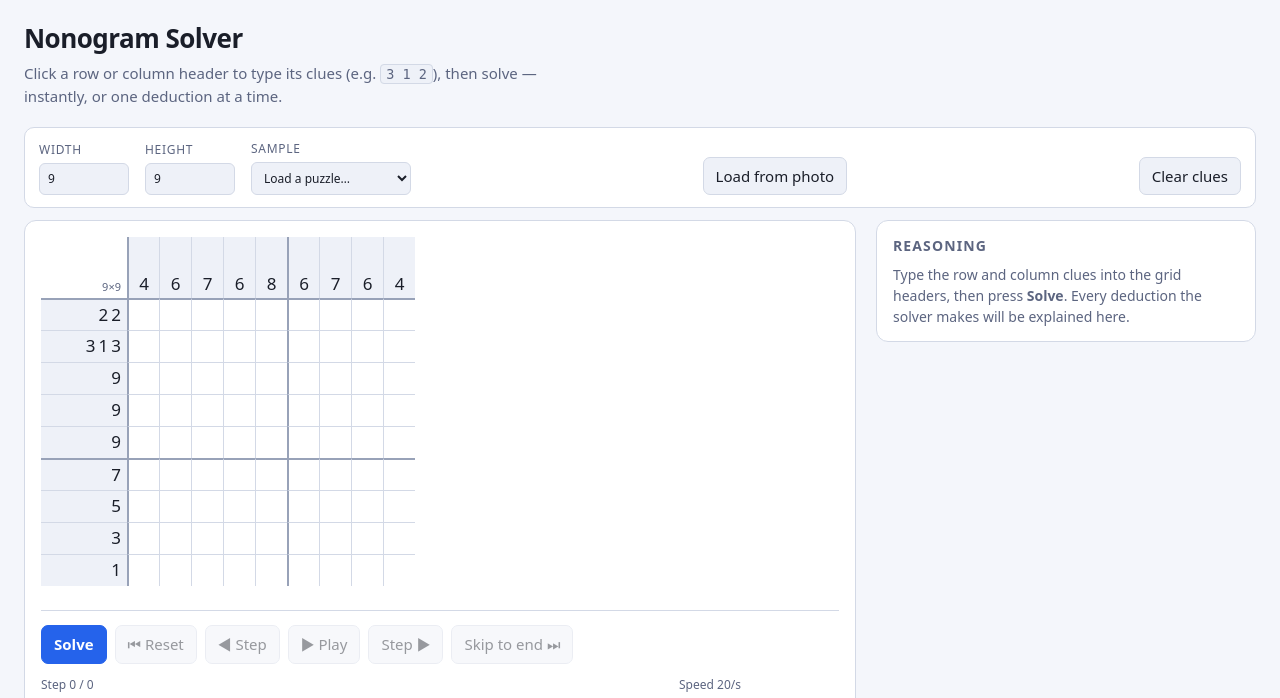
Test: the page › explains each deduction and lets you jump to one
Click the button "Solve". click: (74, 644)
box: left=41, top=625, right=106, bottom=664
(page scrolled)
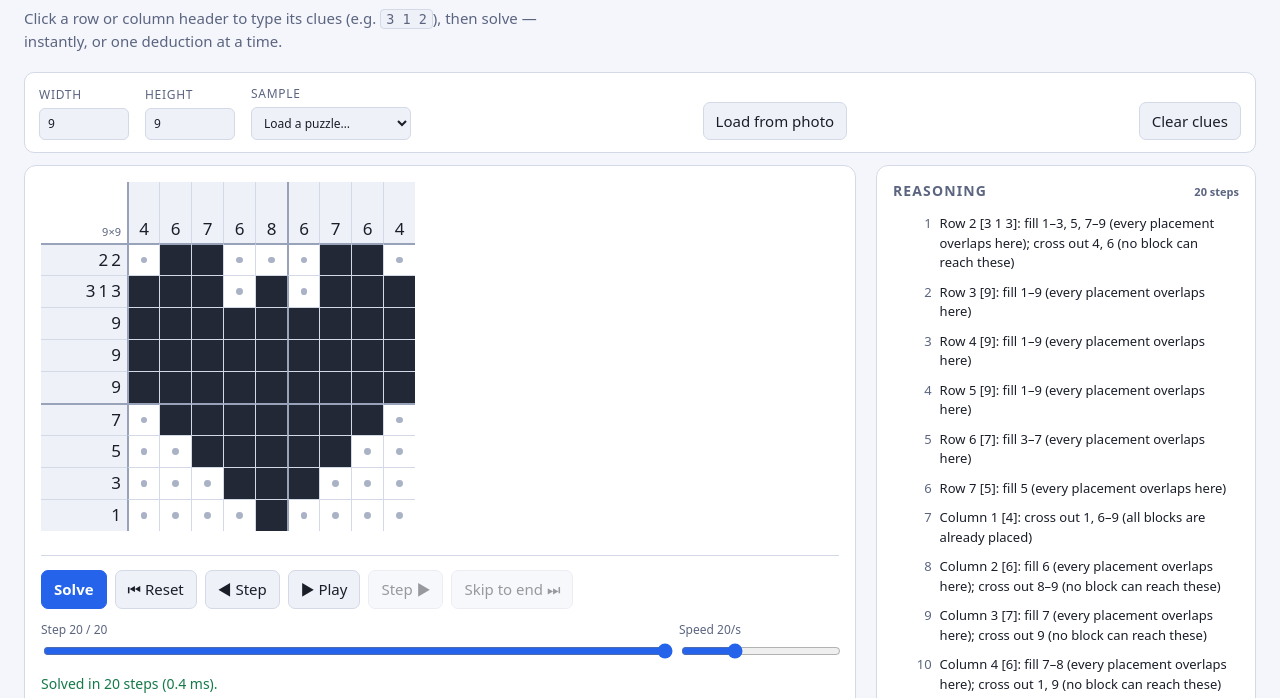
Expected: the text "Solved in 20 steps (0.4 ms)." is shown, left=41, top=674, right=218, bottom=692
Click the list item "3 Row 4 [9]: fill 1–9 (every placement overlaps here)". click: (1065, 350)
box: left=924, top=332, right=1205, bottom=369
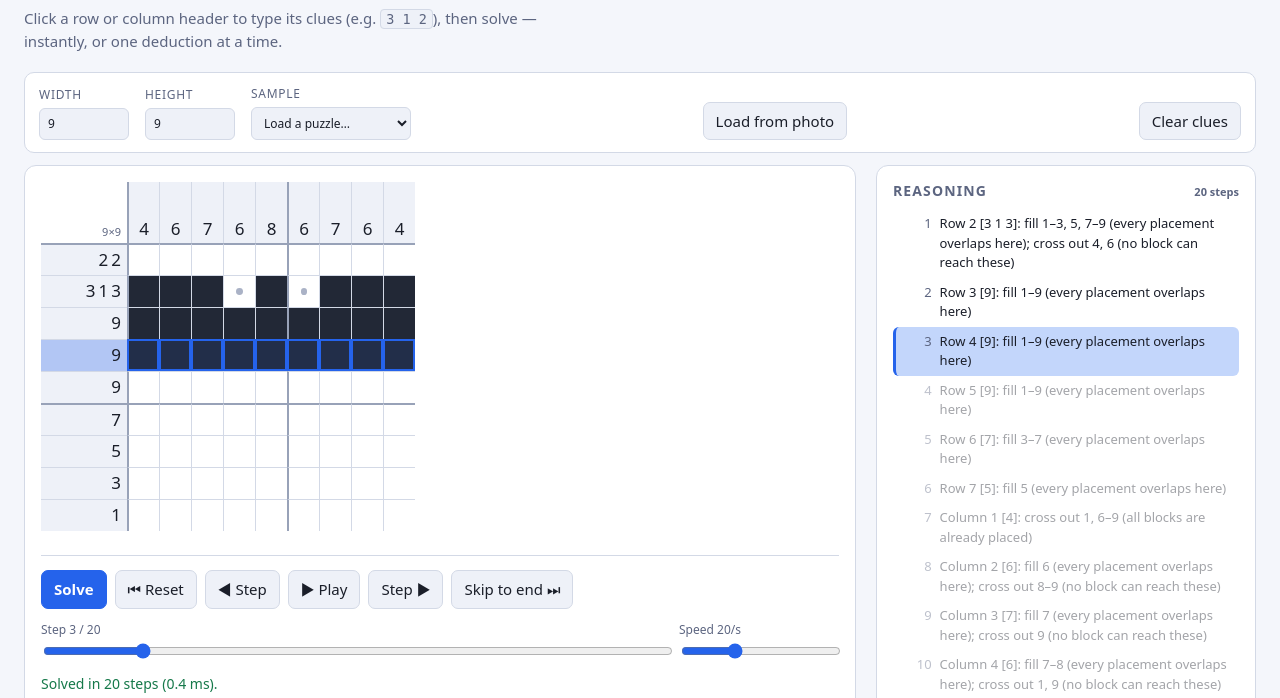
Expected: the text "Step 3 / 20" is shown, left=41, top=620, right=100, bottom=638
